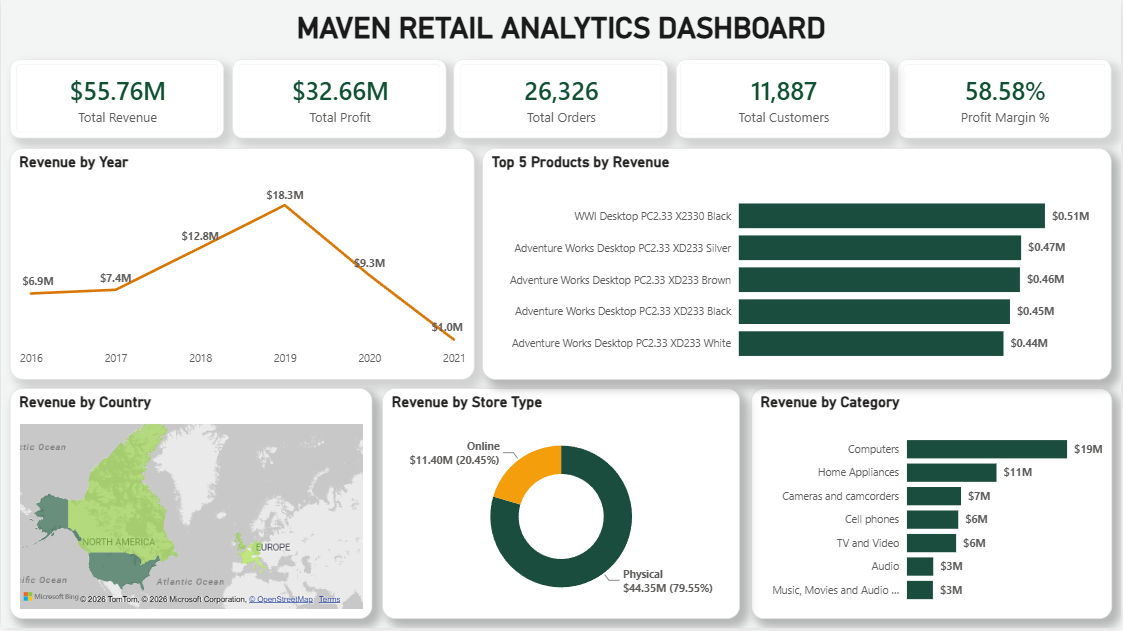

The page's visual inventory and layout, read from the dashboard file:
{"tool":"powerbi","page":{"name":"Executive Overview","canvas":[1280,720],"ordinal":0},"visuals":[{"type":"cardVisual","fields":{"Data":["_Measures.Total Revenue"]},"box":[10,70,245,90],"z":0},{"type":"cardVisual","fields":{"Data":["_Measures.Profit Margin %"]},"box":[1024.3,70,245,90],"z":1000},{"type":"cardVisual","fields":{"Data":["_Measures.Total Profit"]},"box":[263.6,70.3,245,90],"z":2000},{"type":"cardVisual","fields":{"Data":["_Measures.Total Orders"]},"box":[517.1,70.3,245,90],"z":3000},{"type":"cardVisual","fields":{"Data":["_Measures.Total Customers"]},"box":[770.7,70,245,90],"z":4000},{"type":"lineChart","title":"Revenue by Year","fields":{"Category":["DimDate.Year"],"Y":["_Measures.Total Revenue"]},"box":[10,171.3,531.3,264.7],"z":5000},{"type":"clusteredBarChart","title":"Revenue by Category","fields":{"Y":["_Measures.Total Revenue"],"Category":["Products.Category"]},"box":[857,446,413,264],"z":6000},{"type":"filledMap","title":"Revenue by Country","fields":{"Category":["Customers.Country"]},"box":[10,446,414,264],"z":7000},{"type":"donutChart","title":"Revenue by Store Type","fields":{"Y":["_Measures.Total Revenue"],"Category":["Stores.Store Type"]},"box":[435.7,445.7,408.6,264.3],"z":8000},{"type":"clusteredBarChart","title":"Top 5 Products by Revenue","fields":{"Y":["_Measures.Total Revenue"],"Category":["Products.Product Name"]},"box":[550.7,171.3,719.3,264.7],"z":9000},{"type":"textbox","box":[10,10,1260,61.4],"z":10000}]}

Visuals, with their boxes in screenshot pixels (x1, y1, x2, y2), scaled from the page's 1280x720 canvas onto the 1123x631 screenshot:
cardVisual - _Measures.Total Revenue: 9, 61, 224, 140
cardVisual - _Measures.Profit Margin %: 899, 61, 1114, 140
cardVisual - _Measures.Total Profit: 231, 62, 446, 140
cardVisual - _Measures.Total Orders: 454, 62, 669, 140
cardVisual - _Measures.Total Customers: 676, 61, 891, 140
"Revenue by Year" lineChart: 9, 150, 475, 382
"Revenue by Category" clusteredBarChart: 752, 391, 1114, 622
"Revenue by Country" filledMap: 9, 391, 372, 622
"Revenue by Store Type" donutChart: 382, 391, 741, 622
"Top 5 Products by Revenue" clusteredBarChart: 483, 150, 1114, 382
textbox: 9, 9, 1114, 63
